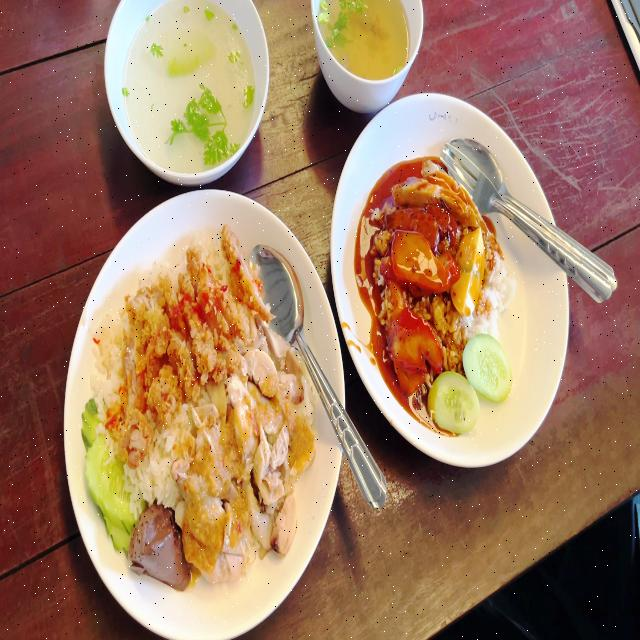boiled_chicken: (179, 327, 315, 575)
boiled_chicken_blood_jelly: (129, 504, 189, 588)
boiled_egg: (452, 222, 488, 316)
chainese_sausage: (392, 198, 464, 247)
chicken_rice: (83, 224, 322, 587)
crispy_pork: (393, 158, 485, 227)
cucumber: (80, 394, 135, 558), (428, 367, 481, 436), (462, 333, 512, 401)
fried_chicken: (110, 224, 269, 457)
red_pork: (387, 307, 442, 391), (388, 231, 455, 293)
red_pork_and_crispy_pork: (370, 161, 516, 437)
